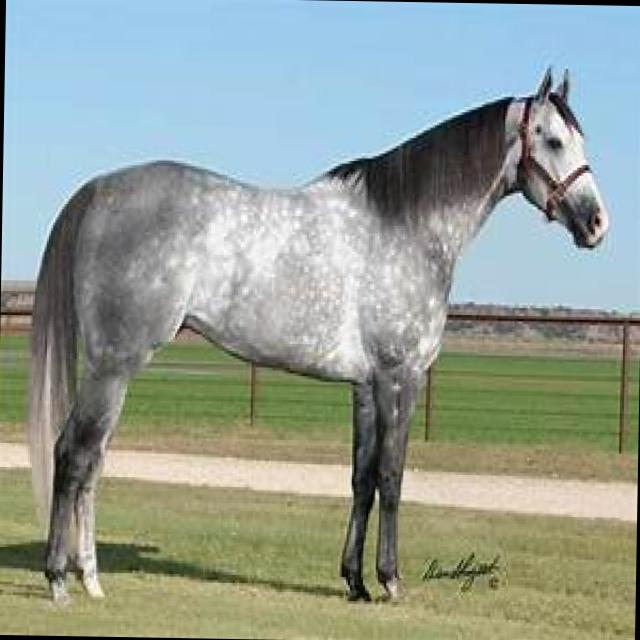horse: (20, 54, 610, 616)
